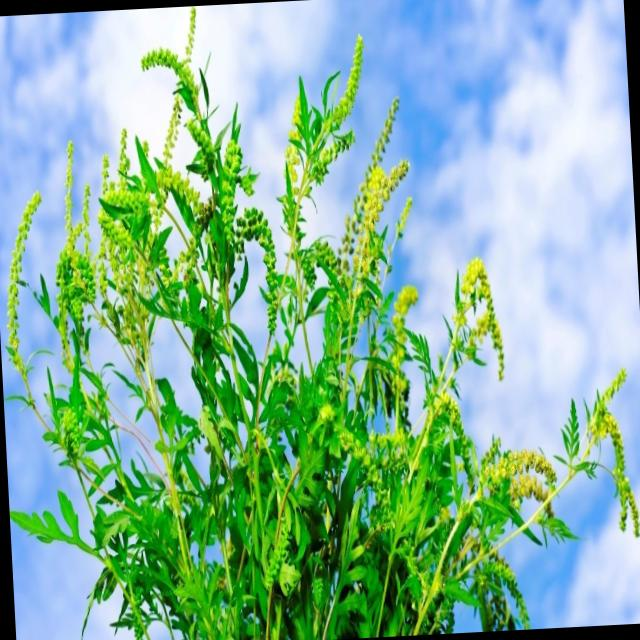ambrosia: (15, 140, 230, 430), (130, 4, 290, 348), (398, 230, 552, 580), (278, 52, 410, 400)
